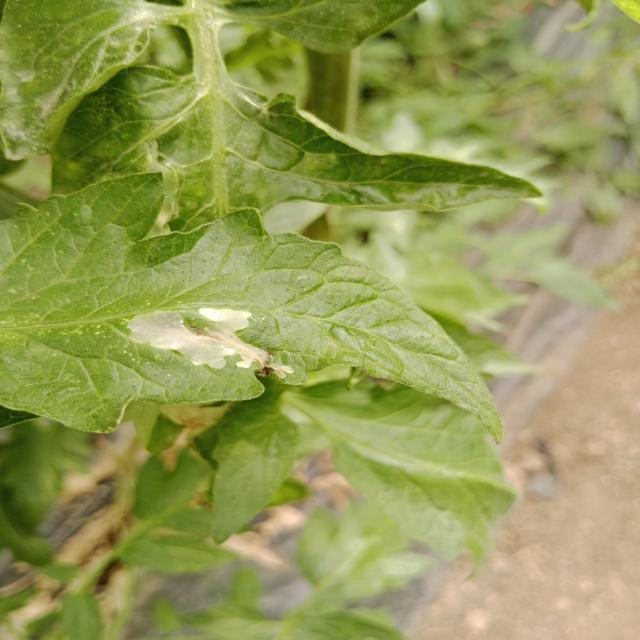Tuta absoluta: (128, 308, 271, 368)
